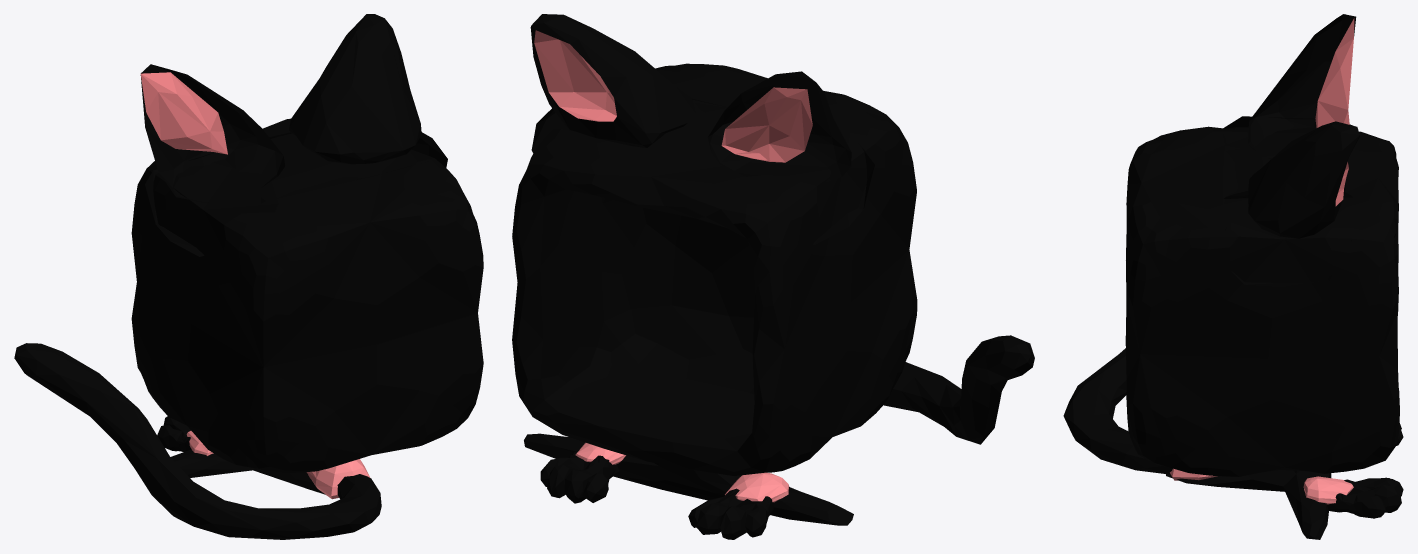
File: nekocom-transformed.glb
3 renders of one model, left to right at view 1: azimuth 30°, elevation 25°; view 2: azimuth 150°, elevation 25°; view 3: azimuth 270°, elevation 25°, orthographic. The views are drawn at different scales.
Parts seen in each view (by area): view 1: monitor, tail, right ear, left ear, ear band, tail connector, left paw; view 2: monitor, right ear, left ear, tail, left paw, right paw, ear band, paw connector left; view 3: monitor, right ear, left ear, tail, right paw, ear band, paw connector right.
Boxes of the visible parts, x1,y1,x2,y2 form: monitor: (131,118,483,494); tail: (14,343,381,539); right ear: (289,14,421,164); left ear: (140,64,285,202); ear band: (145,132,447,256); tail connector: (306,459,370,499); left paw: (157,416,191,451); monitor: (512,63,917,525); right ear: (530,14,695,147); left ear: (707,71,851,186); tail: (883,335,1034,444); left paw: (688,488,774,539); right paw: (540,450,618,503); ear band: (531,99,874,245); paw connector left: (725,472,789,502); monitor: (1125,126,1399,539); right ear: (1248,121,1359,238); left ear: (1248,14,1356,159); tail: (1063,348,1172,474); right paw: (1327,477,1403,518); ear band: (1222,116,1352,286); paw connector right: (1303,476,1353,504).
Bounding box in the file's own units: 3.6 × 3.24 × 2.46.
